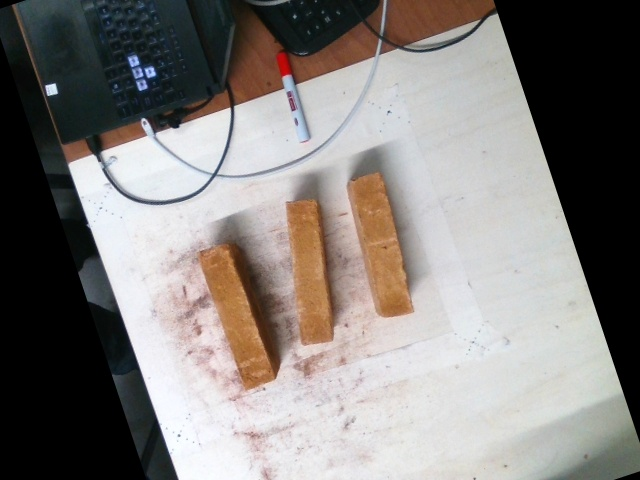brick-side: (198, 247, 272, 389), (353, 175, 409, 318), (287, 198, 330, 341)
